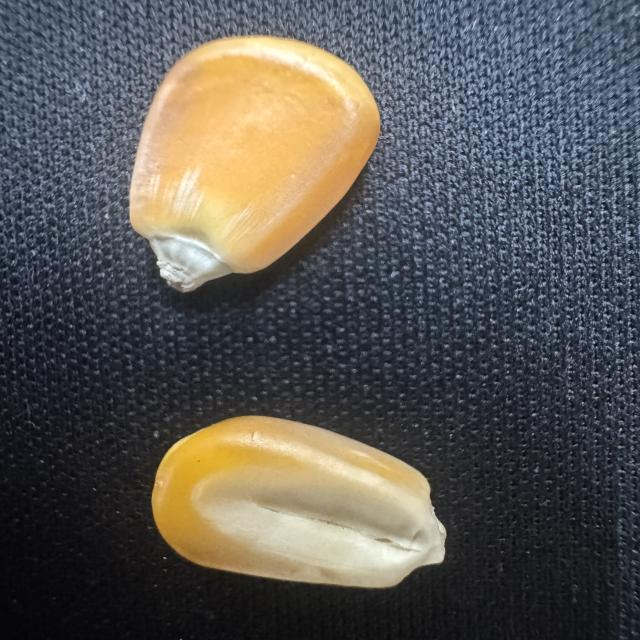Good-Seed: (120, 30, 390, 296), (147, 408, 450, 592)
